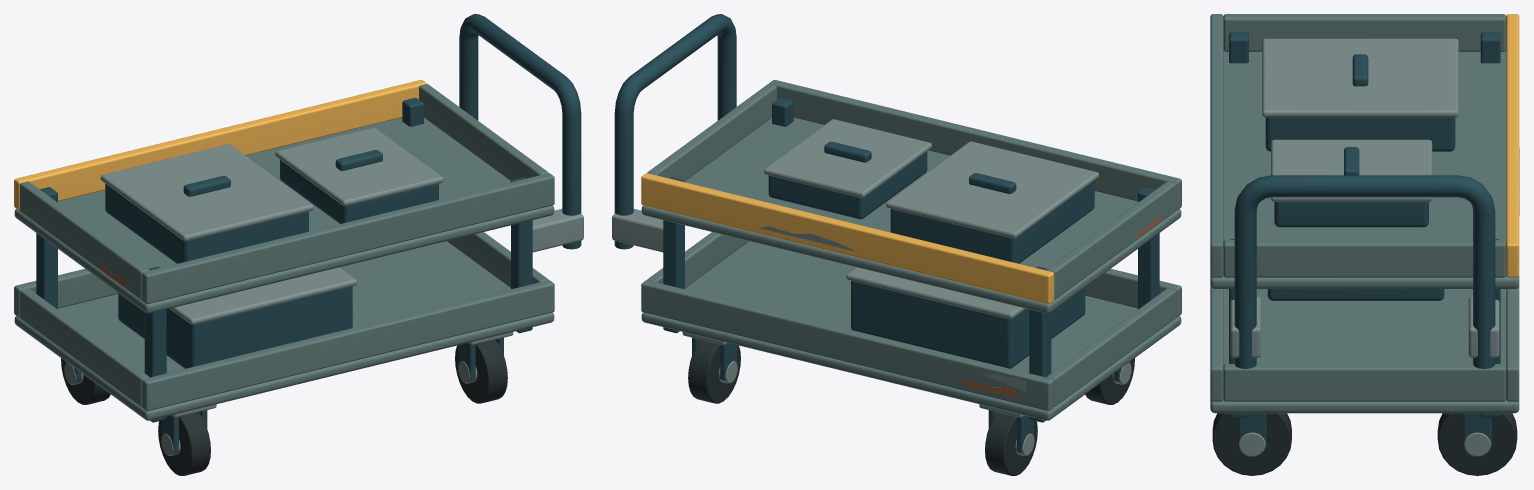
File: d08_repair_furniture_03.glb
The picture shows the model from 3 angles, left to right: view 1: azimuth 30°, elevation 25°; view 2: azimuth 150°, elevation 25°; view 3: azimuth 270°, elevation 25°; orthographic projection. The views are drawn at different scales.
Parts seen in each view (by area): view 1: D08RepairFurniture03_Mesh; view 2: D08RepairFurniture03_Mesh; view 3: D08RepairFurniture03_Mesh.
Part boxes in pixels (x1,y1,x2,y2): D08RepairFurniture03_Mesh: (14, 14, 583, 475); D08RepairFurniture03_Mesh: (612, 14, 1181, 475); D08RepairFurniture03_Mesh: (1210, 14, 1519, 475).
Size of the model in its own units: 1.36 by 0.86 by 0.7005.
